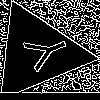Y: (12, 28, 73, 77)
